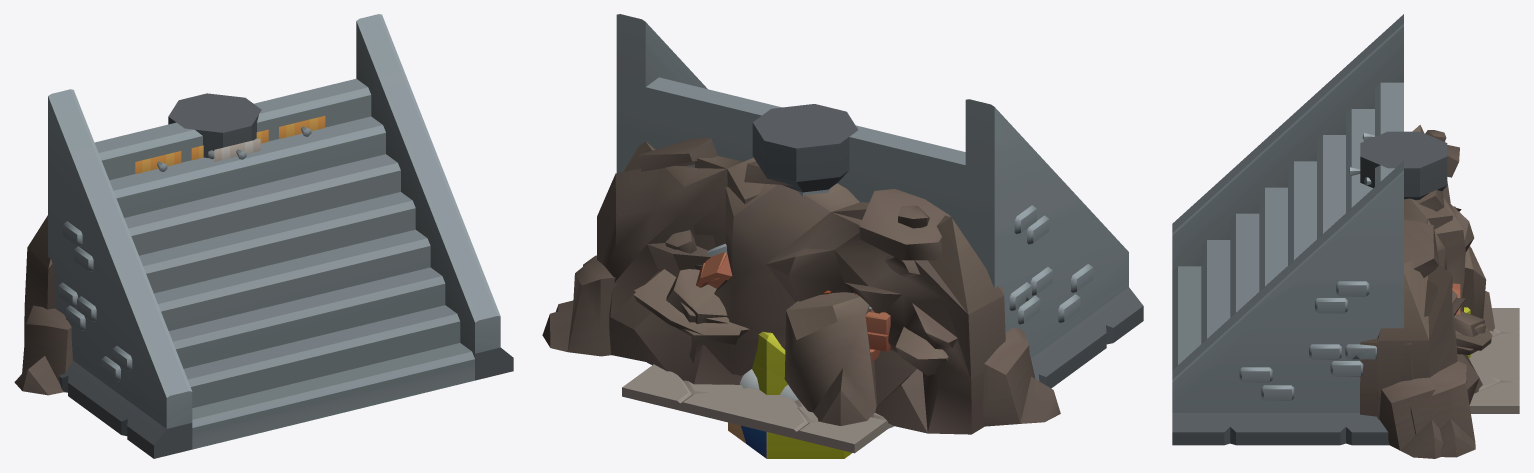
The model's file is env.glb.
The picture shows the model from 3 angles, left to right: view 1: azimuth 30°, elevation 25°; view 2: azimuth 150°, elevation 25°; view 3: azimuth 270°, elevation 25°; orthographic projection. The views are drawn at different scales.
Parts seen in each view (by area): view 1: stairs_wide, rubble_large, pillar, pillar_decorated, banner_triple_yellow; view 2: rubble_large, stairs_wide, rubble_half, pillar, floor_tile_large_rocks, floor_tile_large, pillar_decorated, keg_decorated, hex_grass_sloped_high, hex_coast_E, hex_grass_sloped_low; view 3: stairs_wide, rubble_half, rubble_large, floor_tile_large_rocks, pillar_decorated, pillar, floor_tile_large.
Boxes of the visible parts, x1,y1,x2,y2 form: stairs_wide: [48, 14, 513, 458]; rubble_large: [14, 215, 72, 395]; pillar: [168, 97, 261, 157]; pillar_decorated: [168, 93, 260, 161]; banner_triple_yellow: [135, 116, 325, 173]; rubble_large: [556, 161, 1060, 434]; stairs_wide: [616, 14, 1143, 388]; rubble_half: [542, 138, 763, 384]; pillar: [752, 104, 857, 193]; floor_tile_large_rocks: [622, 364, 889, 452]; floor_tile_large: [622, 385, 892, 453]; pillar_decorated: [753, 104, 857, 196]; keg_decorated: [696, 243, 890, 361]; hex_grass_sloped_high: [752, 331, 785, 394]; hex_coast_E: [767, 432, 843, 458]; hex_grass_sloped_low: [752, 361, 787, 394]; stairs_wide: [1172, 14, 1403, 445]; rubble_half: [1377, 198, 1491, 457]; rubble_large: [1360, 125, 1494, 458]; floor_tile_large_rocks: [1469, 308, 1519, 412]; pillar_decorated: [1348, 138, 1447, 200]; pillar: [1360, 131, 1447, 199]; floor_tile_large: [1469, 334, 1519, 413].
Size of the model in its own units: 8.13 by 6.1 by 6.
2 materials, 2 textured.
